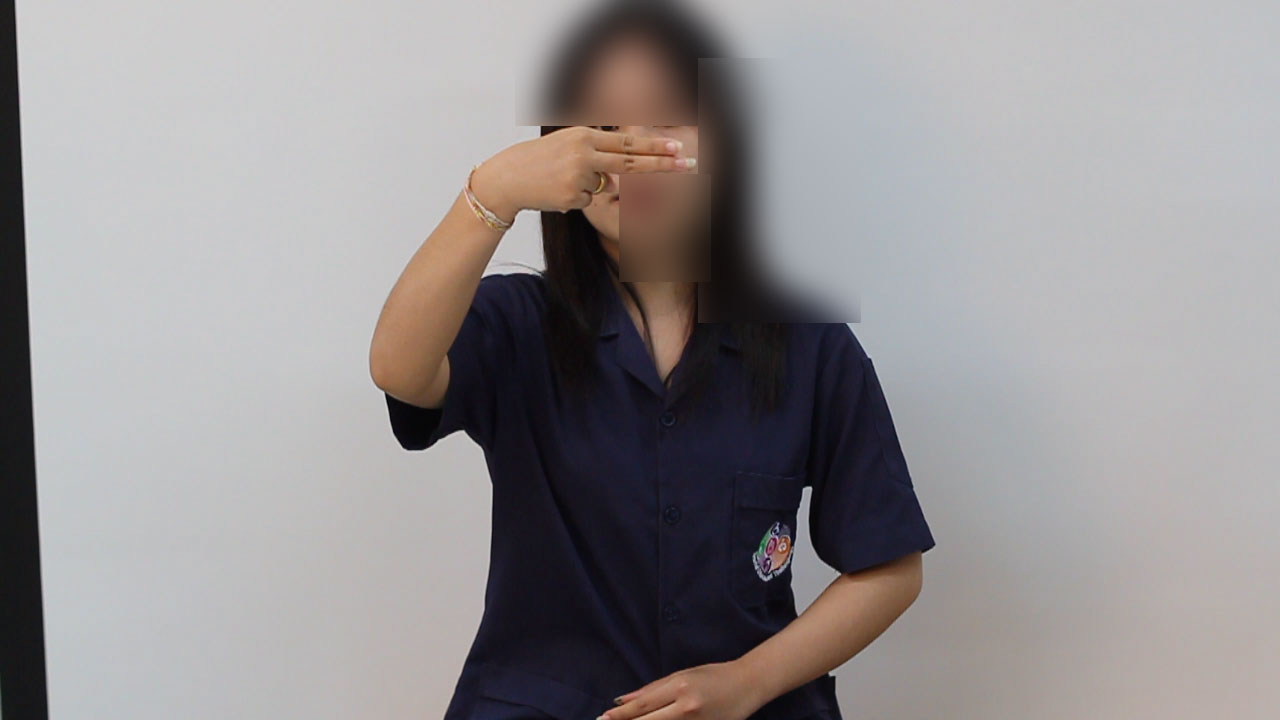hor: (427, 120, 707, 239)
